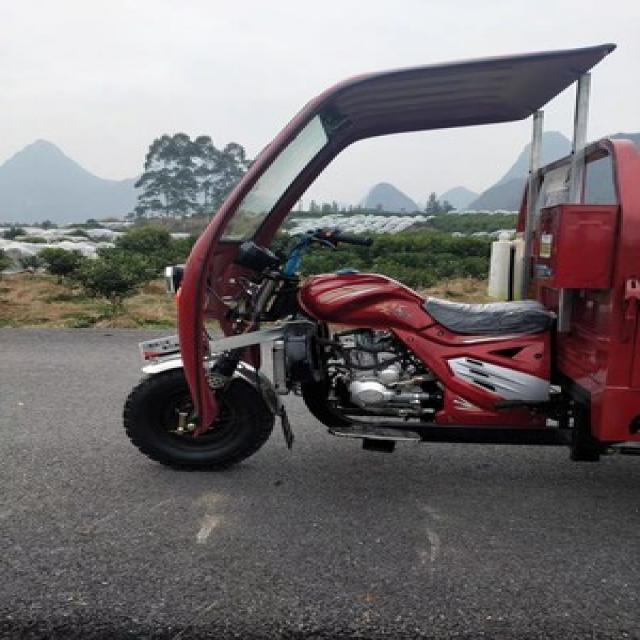tricycle: (117, 41, 636, 474)
